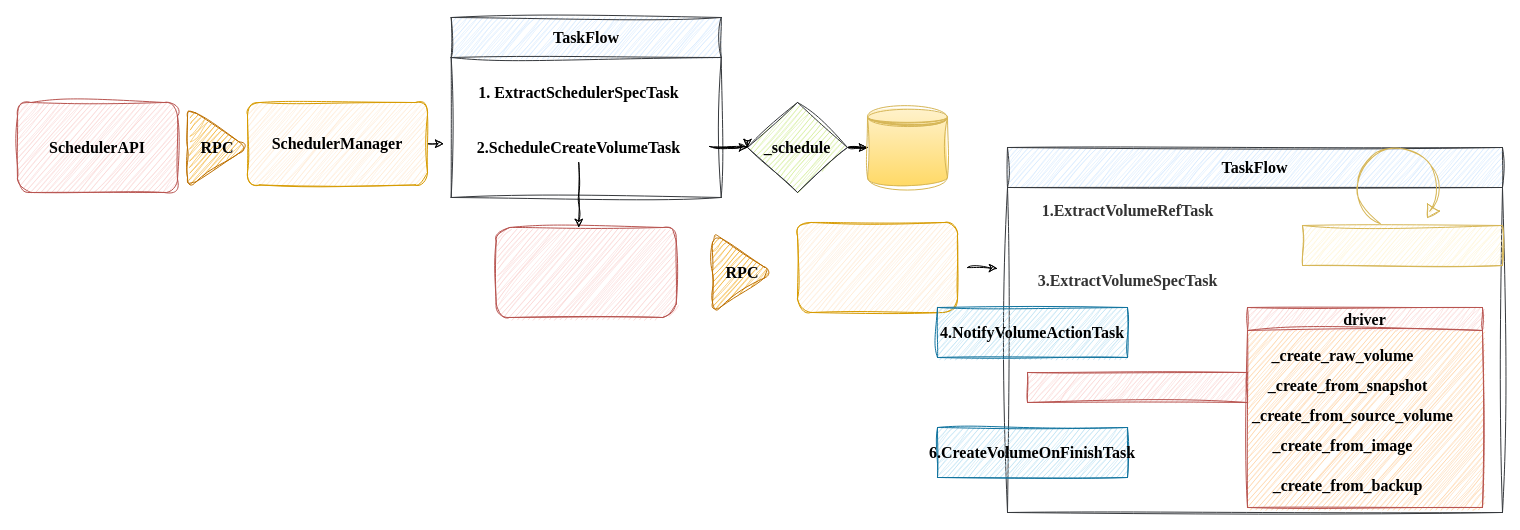
Some shapes in this 1520 by 530 pixel diagram are drawn without their labels. The shapes that lost their labels are listed below. From the top down, each one's centre as x and y in pixels, then its label:
At (x=907, y=147): "Backend".
At (x=1402, y=245): "2.OnFailureRescheduleTask".
At (x=585, y=272): "VolumeAPI".
At (x=877, y=267): "VolumeManager".
At (x=1137, y=387): "5.CreateVolumeFromSpecTask".
